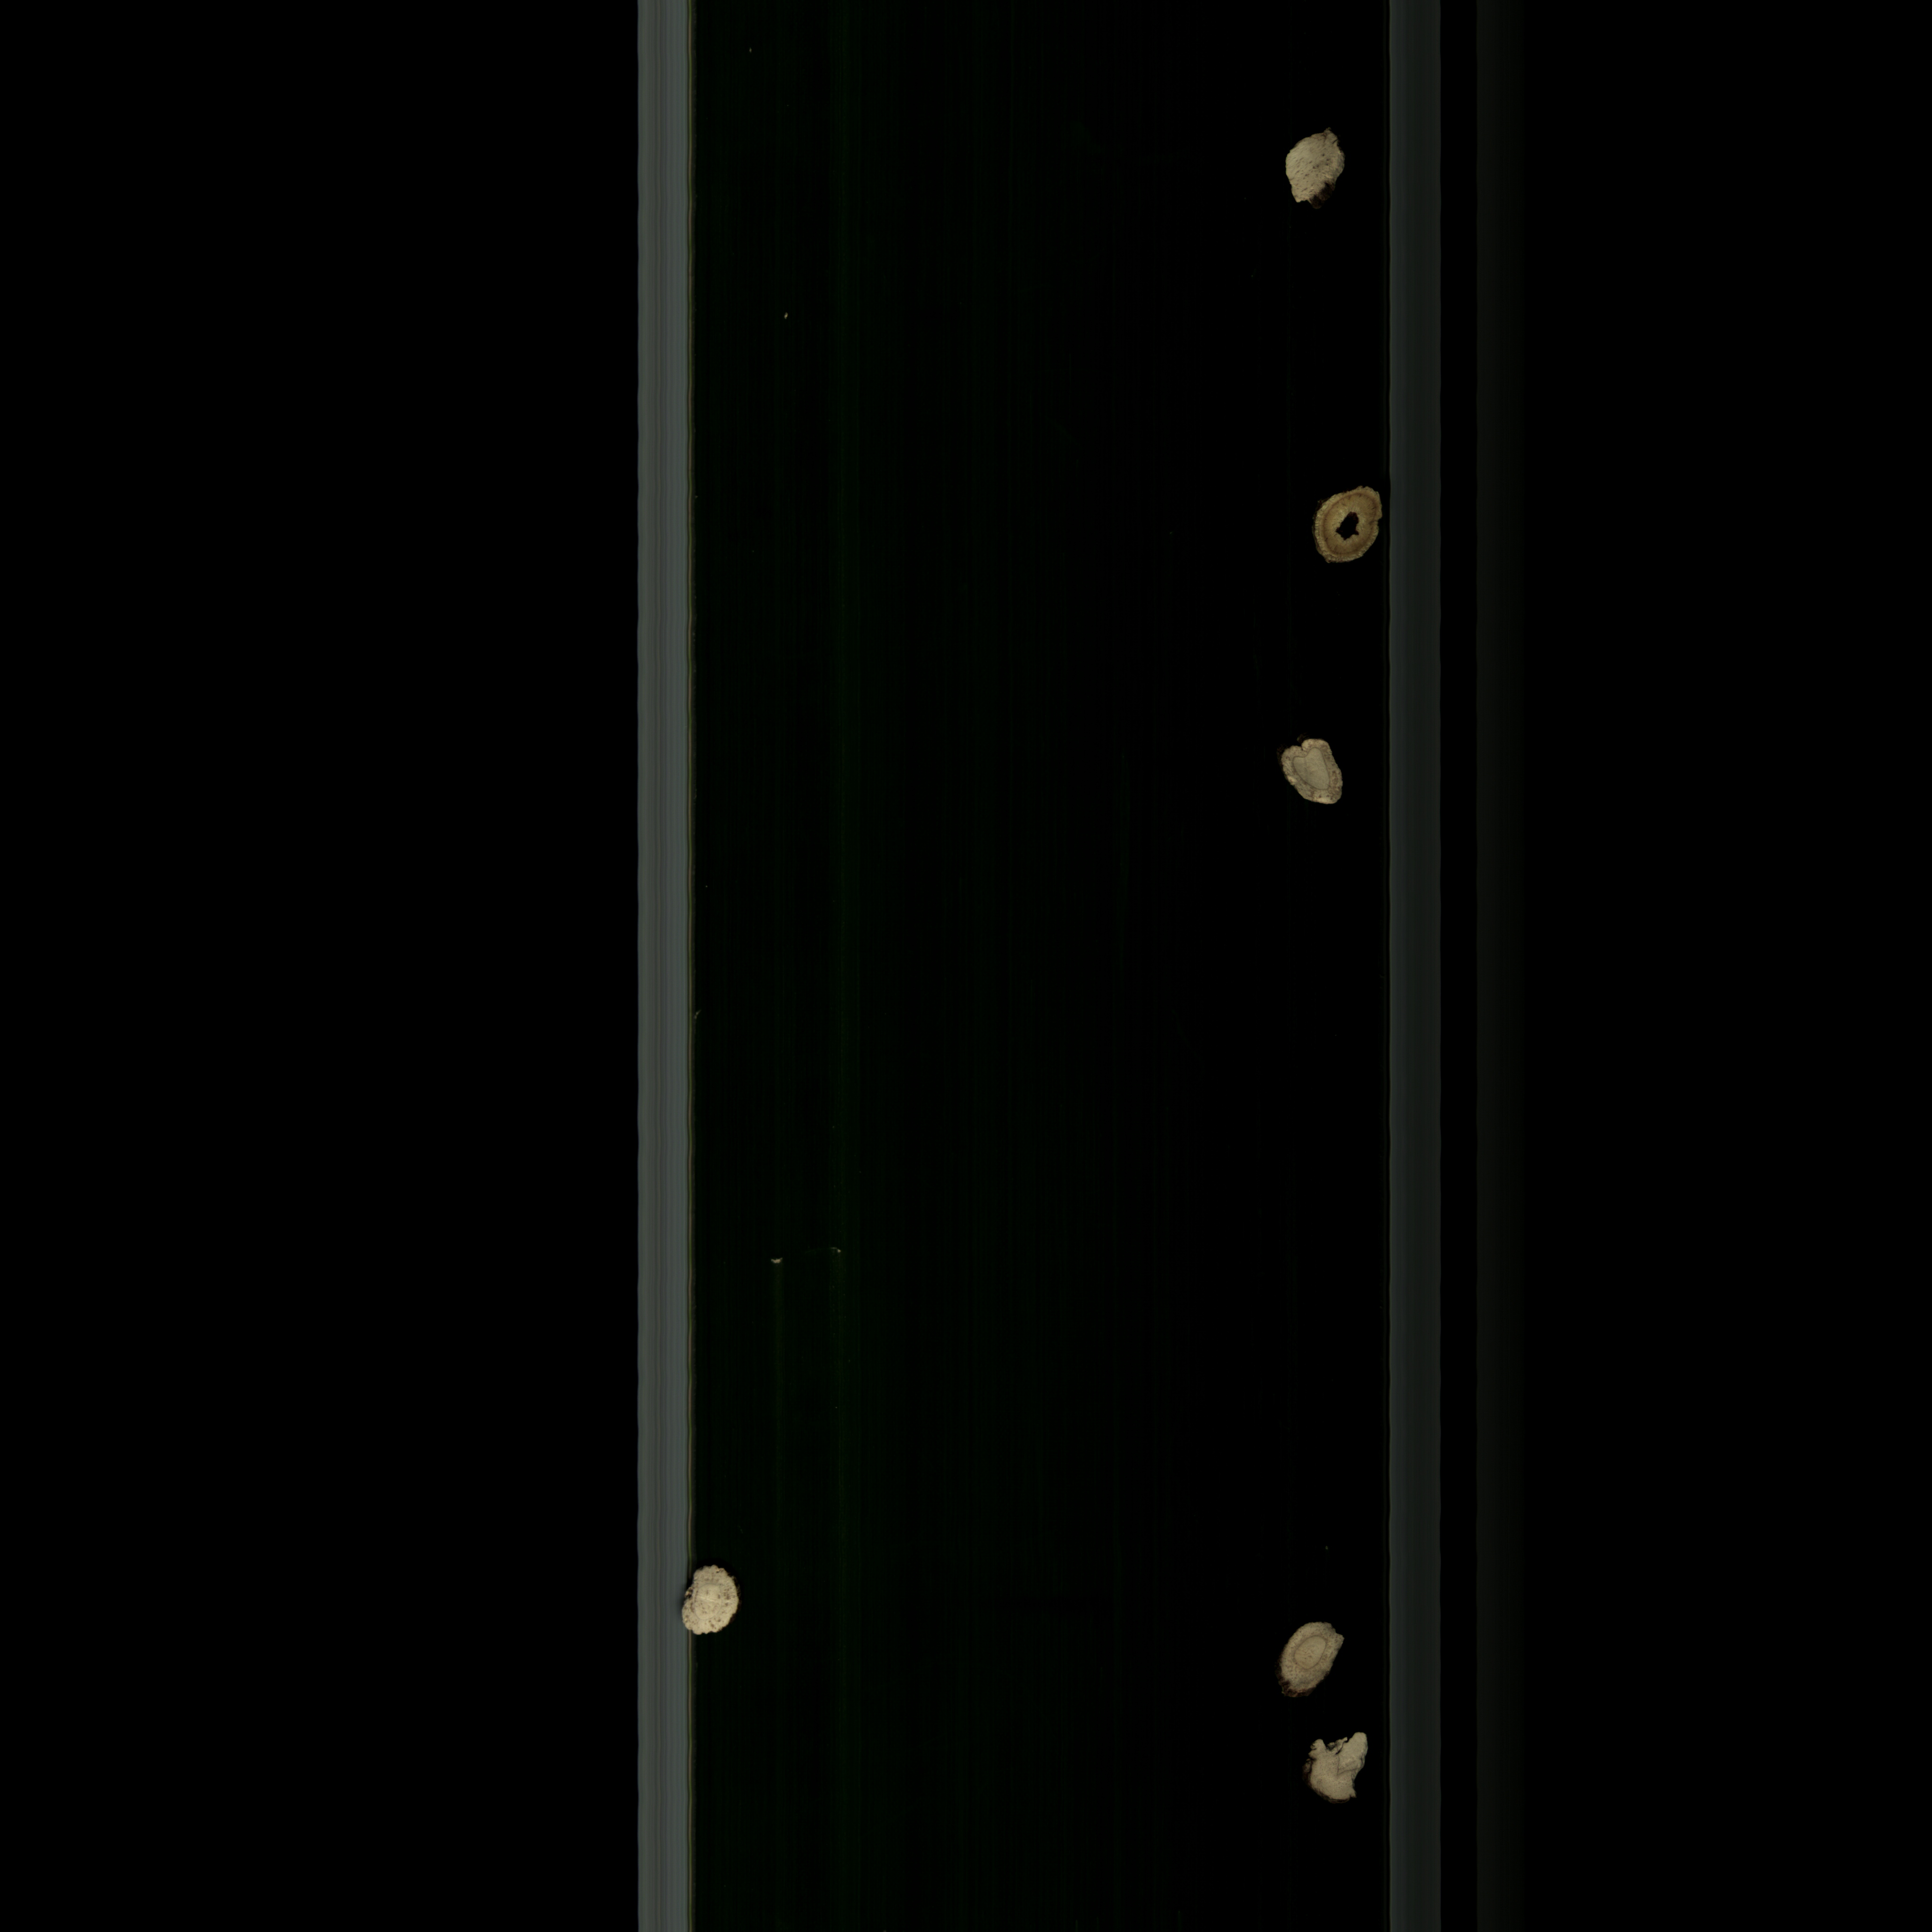debris: (1277, 120, 1353, 218)
distortion: (678, 1562, 747, 1638)
dreg: (1304, 1721, 1378, 1819), (763, 1244, 789, 1272), (777, 308, 801, 326)
moldy: (1311, 474, 1387, 580), (1277, 1606, 1343, 1706), (1276, 736, 1346, 812)
